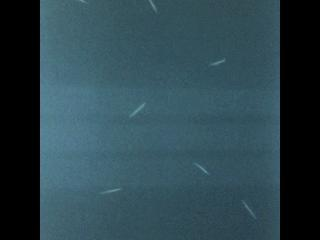scratch: (241, 199, 257, 219), (129, 102, 146, 118), (145, 0, 162, 15), (193, 162, 210, 175), (99, 187, 122, 195), (209, 58, 226, 66), (77, 0, 88, 4)
